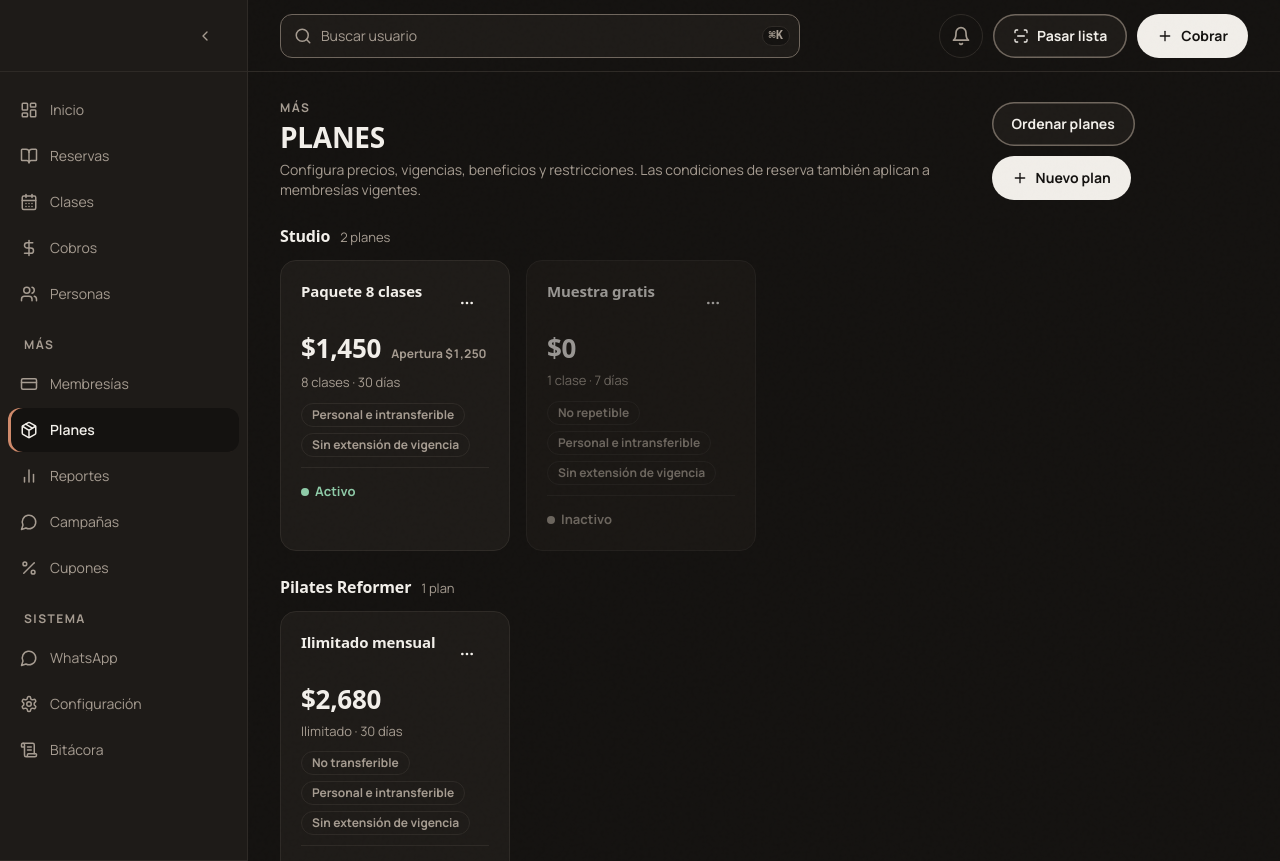
Test: Planes › tarjetas agrupadas por categoría con precio, reglas y estado
This screenshot has width=1280, height=861.
Check: the heading "Studio" is shown, box [280,224,330,248]
Check: the heading "Pilates Reformer" is shown, box [280,575,411,599]
Press Enter in the button named "Acciones de Paquete 8 clases", box [445,281,489,325]
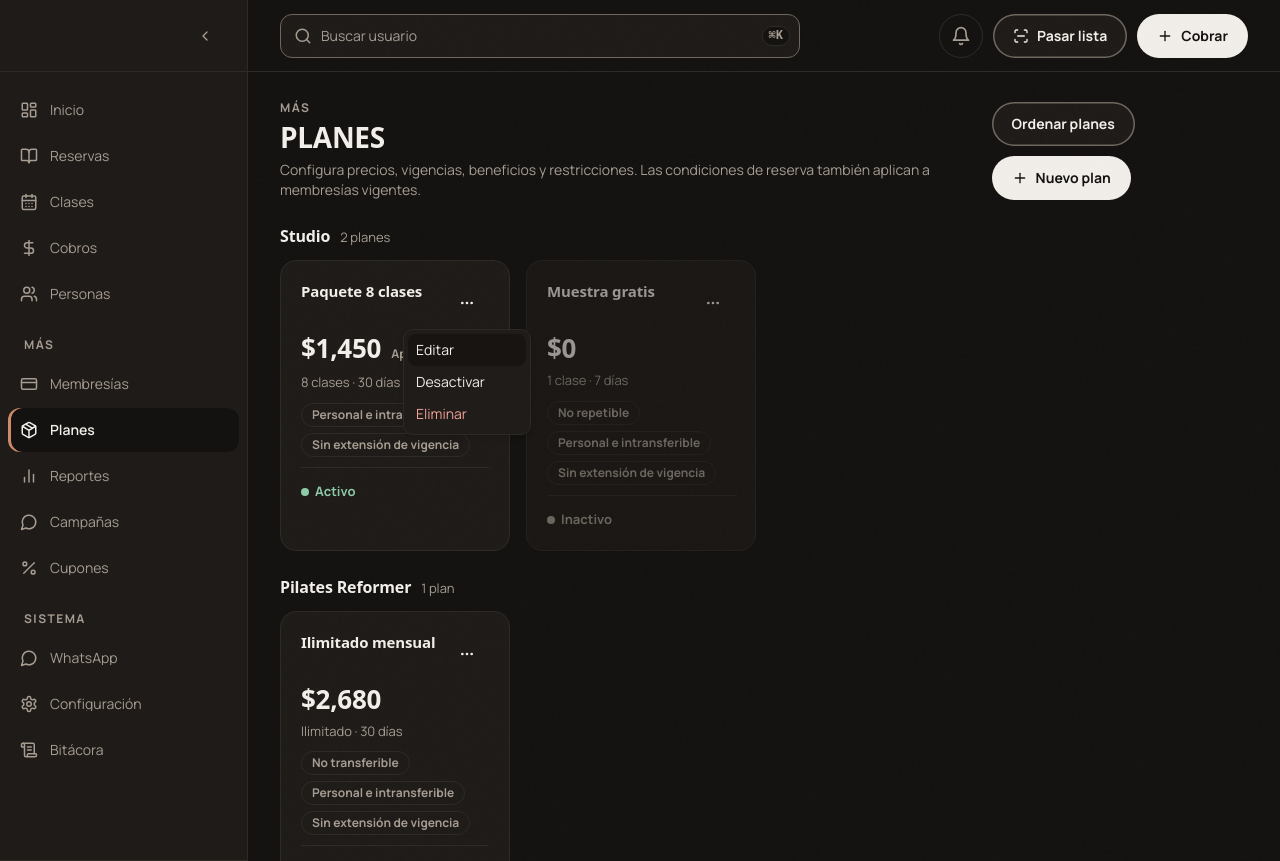
Click the menu item "Editar" at (467, 350), box [408,334,526,366]
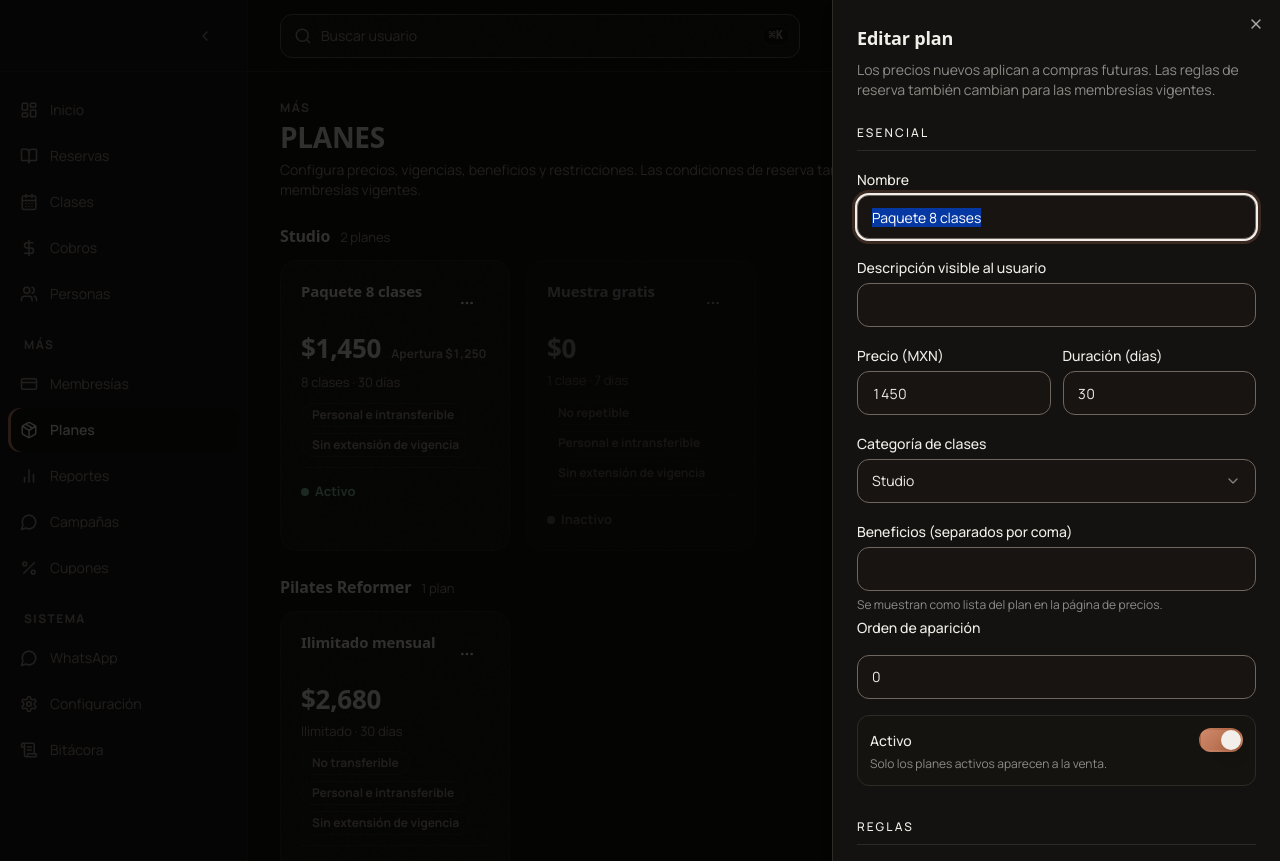
Check: the heading "Editar plan" is shown, box [857,26,953,50]
